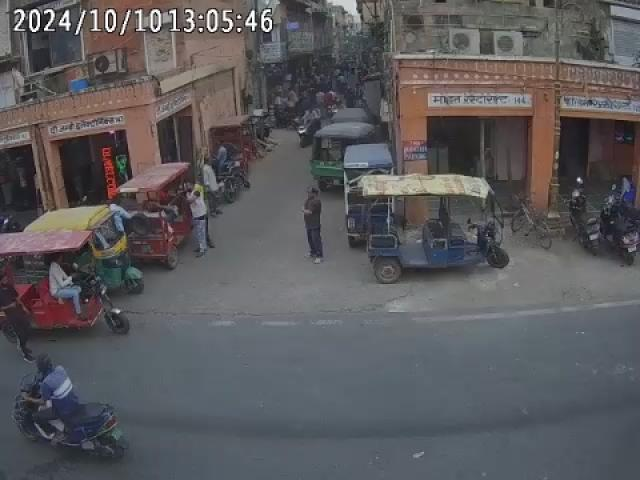auto: (0, 208, 133, 343), (361, 176, 506, 282), (123, 163, 195, 270), (308, 122, 394, 194)
bicycle: (512, 192, 556, 251)
helmet: (32, 353, 54, 374)
motorbike-rider: (209, 140, 250, 202), (295, 107, 324, 147)
person: (187, 184, 214, 256), (302, 188, 326, 260)
scooty: (599, 183, 639, 262), (569, 178, 597, 252)
scooty-rider: (13, 355, 128, 462)
